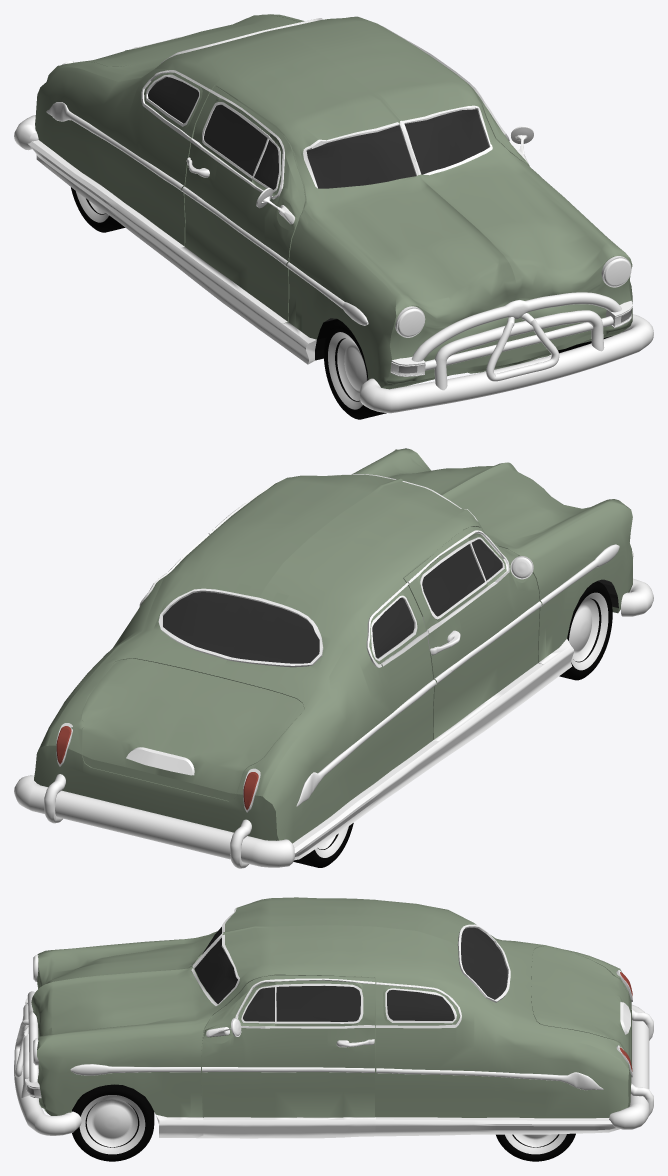
File: AL_hhornet_sage_TL.fbx
The picture shows the model from 3 angles, top to bottom: view 1: azimuth 30°, elevation 25°; view 2: azimuth 150°, elevation 25°; view 3: azimuth 270°, elevation 25°; orthographic projection. The views are drawn at different scales.
Visible parts, largest first — view 1: pPlane5, pCylinder3, pCylinder29, pCylinder5, pCylinder19, pCylinder9, pCylinder10, pCylinder6, pCylinder30, pCylinder7, pCylinder8, pCube2; view 2: pPlane5, pCylinder24, pCylinder29, pCylinder19, pCylinder30, pCylinder3, pCylinder25, pCylinder26; view 3: pPlane5, pCylinder28, pCylinder18, pCylinder24, pCylinder20, pCylinder3, pCylinder5, pCylinder10, pCylinder9.
Boxes of the visible parts, bbox=[...] form: pPlane5: bbox=[28, 14, 632, 389]; pCylinder3: bbox=[360, 314, 653, 413]; pCylinder29: bbox=[323, 320, 386, 419]; pCylinder5: bbox=[411, 292, 621, 361]; pCylinder19: bbox=[46, 102, 368, 325]; pCylinder9: bbox=[434, 310, 604, 390]; pCylinder10: bbox=[486, 313, 559, 381]; pCylinder6: bbox=[425, 316, 613, 370]; pCylinder30: bbox=[71, 187, 125, 232]; pCylinder7: bbox=[601, 256, 631, 287]; pCylinder8: bbox=[395, 306, 425, 337]; pCube2: bbox=[390, 356, 425, 376]; pPlane5: bbox=[34, 448, 632, 860]; pCylinder24: bbox=[14, 775, 294, 867]; pCylinder29: bbox=[559, 581, 612, 680]; pCylinder19: bbox=[296, 544, 619, 806]; pCylinder30: bbox=[293, 823, 353, 867]; pCylinder3: bbox=[621, 578, 653, 616]; pCylinder25: bbox=[44, 774, 65, 823]; pCylinder26: bbox=[230, 819, 251, 868]; pPlane5: bbox=[31, 897, 631, 1138]; pCylinder28: bbox=[72, 1084, 154, 1161]; pCylinder18: bbox=[70, 1064, 603, 1090]; pCylinder24: bbox=[609, 1004, 649, 1129]; pCylinder20: bbox=[496, 1133, 575, 1161]; pCylinder3: bbox=[14, 1060, 81, 1135]; pCylinder5: bbox=[27, 991, 38, 1082]; pCylinder10: bbox=[14, 1019, 28, 1077]; pCylinder9: bbox=[21, 1004, 29, 1097].
Bounding box in the file's own units: 2.14 × 1.6 × 4.95.
